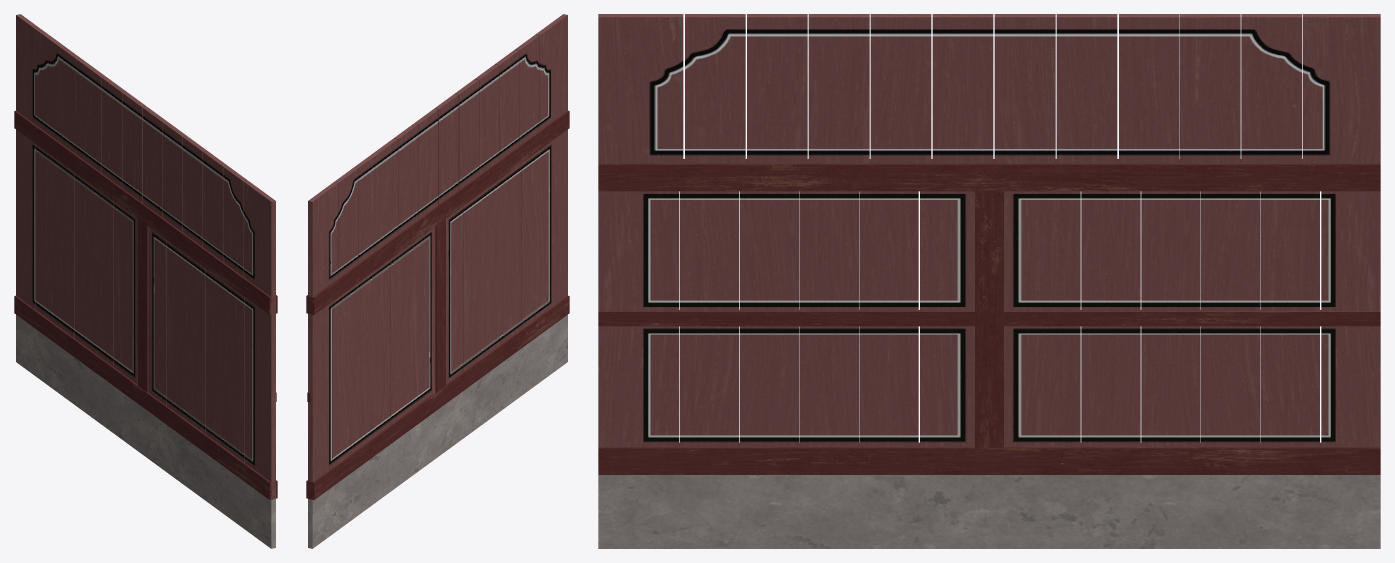
The model's file is SM_Wall01d.fbx.
The picture shows the model from 3 angles, left to right: view 1: azimuth 30°, elevation 25°; view 2: azimuth 150°, elevation 25°; view 3: azimuth 270°, elevation 25°; orthographic projection. The views are drawn at different scales.
Parts seen in each view (by area): view 1: SM_Wall01d; view 2: SM_Wall01d; view 3: SM_Wall01d.
Part boxes in pixels (x1=…): SM_Wall01d: x1=14, y1=14, x2=277, y2=548; SM_Wall01d: x1=306, y1=14, x2=569, y2=548; SM_Wall01d: x1=598, y1=14, x2=1380, y2=548.
Bounding box in the file's own units: 7 × 400 × 300.
Materials: 3 (3 with a texture image).
